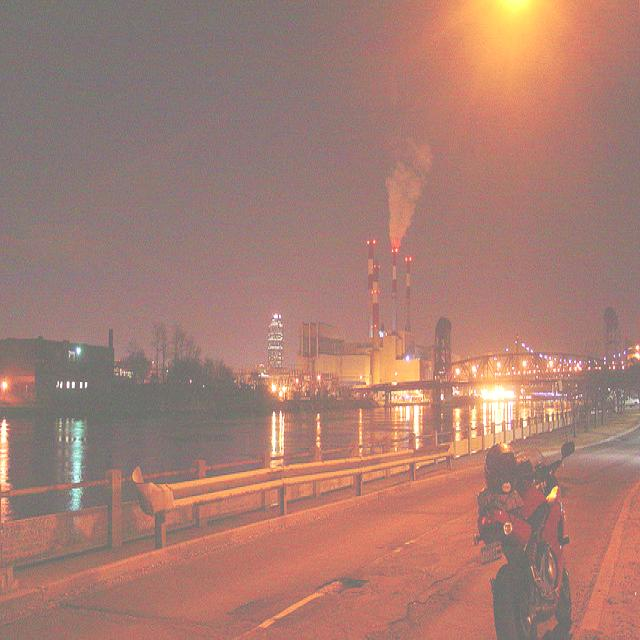Motorbike: (480, 436, 572, 639)
